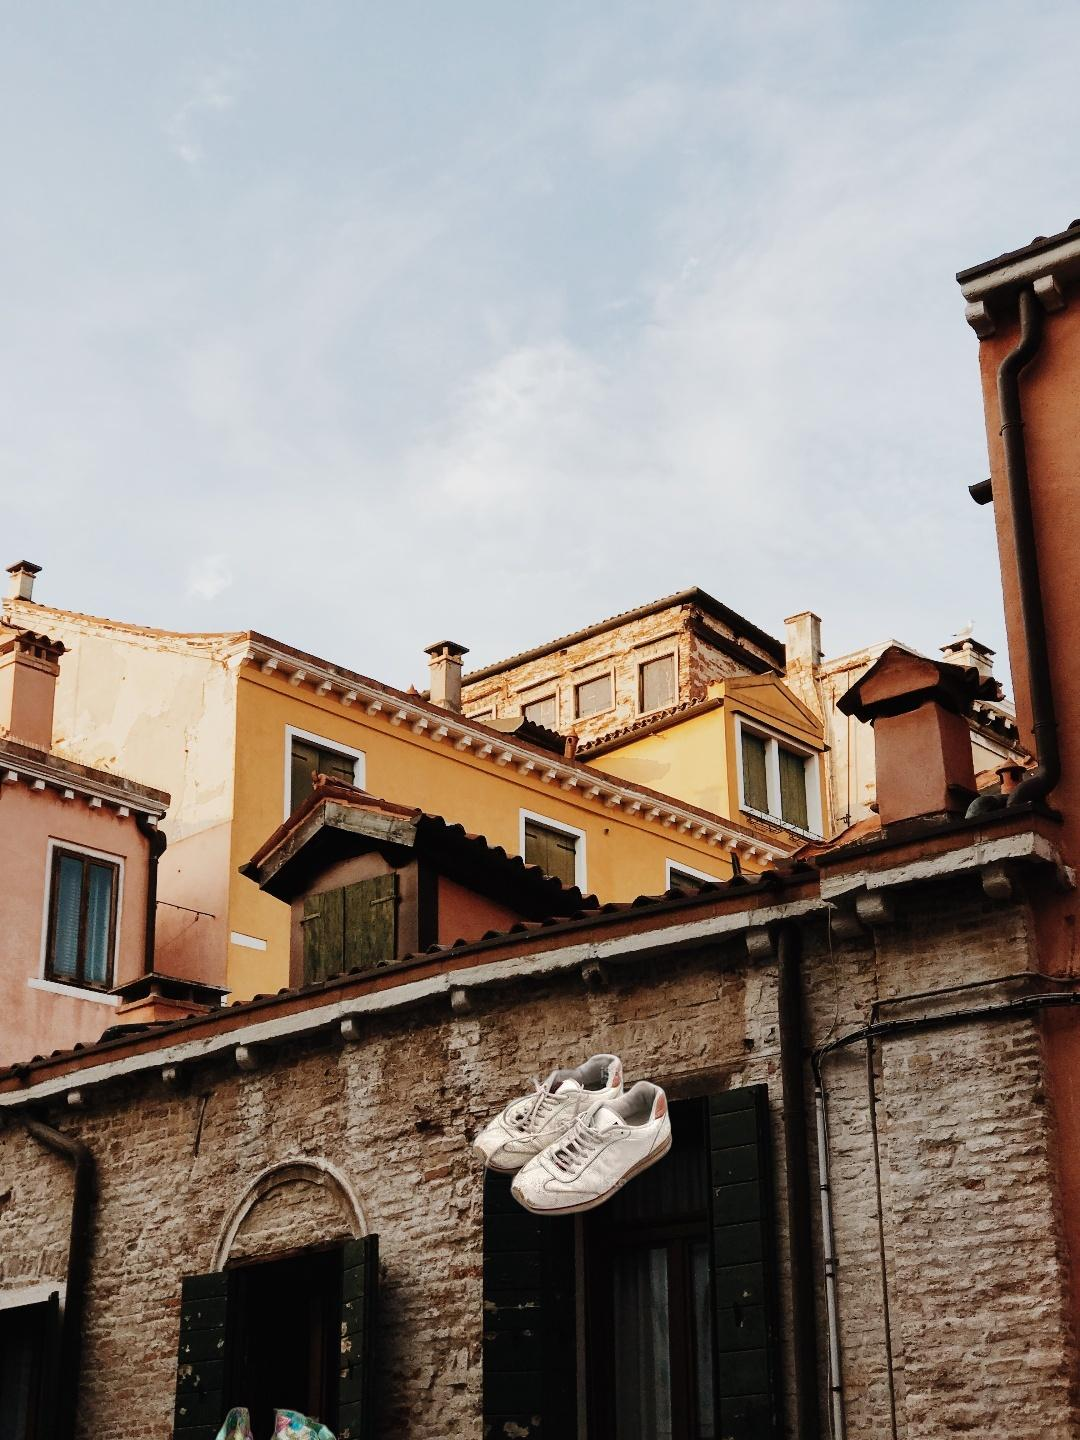shoes: (470, 1051, 675, 1219), (183, 1404, 432, 1440)
